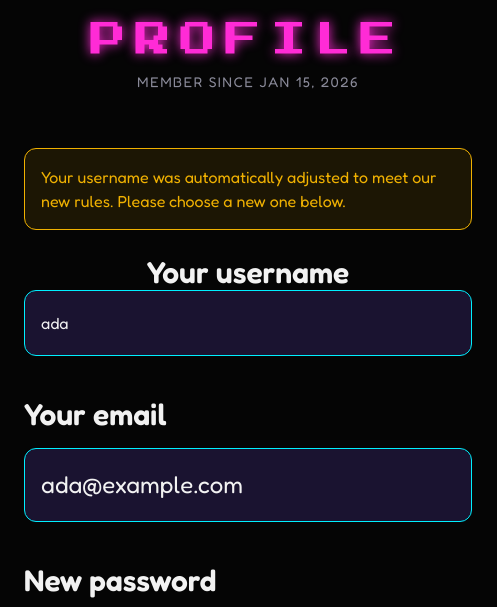
Test case: Profile page › updating the account › sends a valid username update and renews the session token
The image size is (497, 607).
Expected: the text "Your username was automatically adjusted to meet our new rules. Please choose a new one below." is shown, [41, 167, 436, 211]
Replace the text in the field with placeholder "username" with "new-name" at (248, 323), box [24, 290, 472, 356]
(page scrolled)
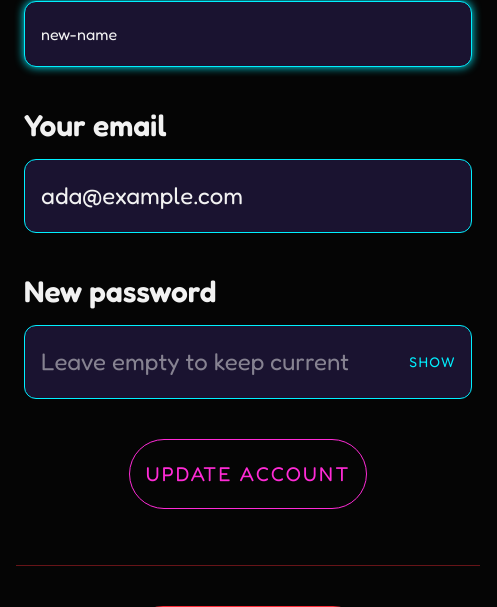
Click the button "Update account".
click(248, 474)  # box [129, 439, 367, 509]
(page scrolled)
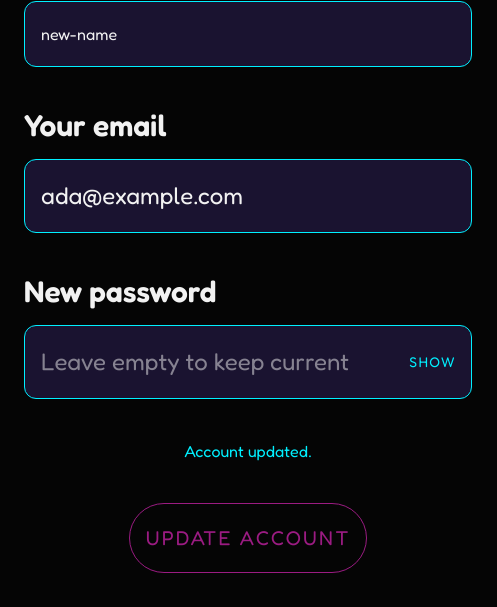
Expected: the text "Account updated." is shown, [184, 441, 312, 461]
